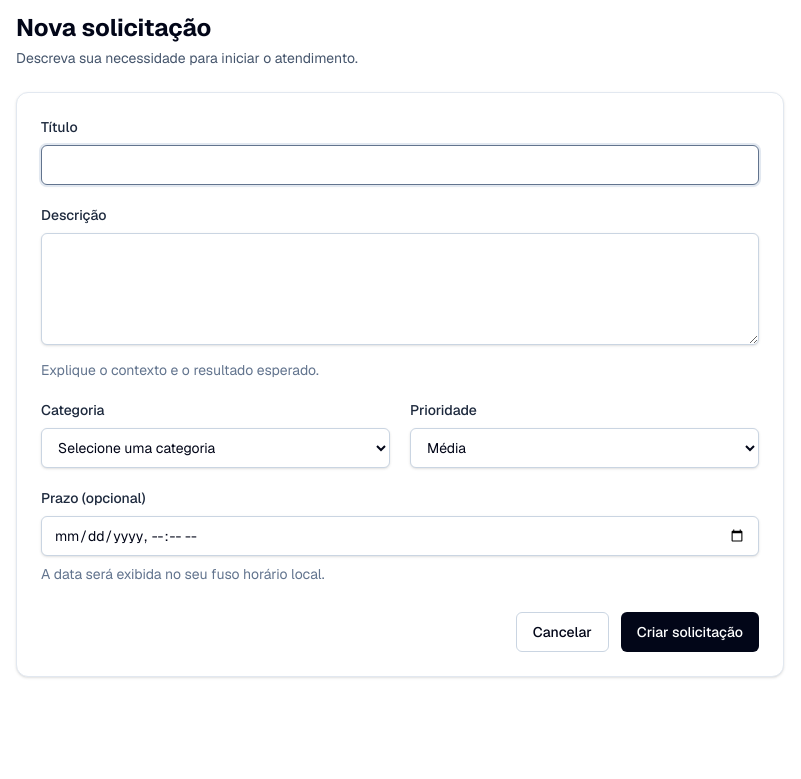
Test: nova solicitação › valida campos obrigatórios
Click the button "Criar solicitação" at (690, 632), box [621, 612, 759, 652]
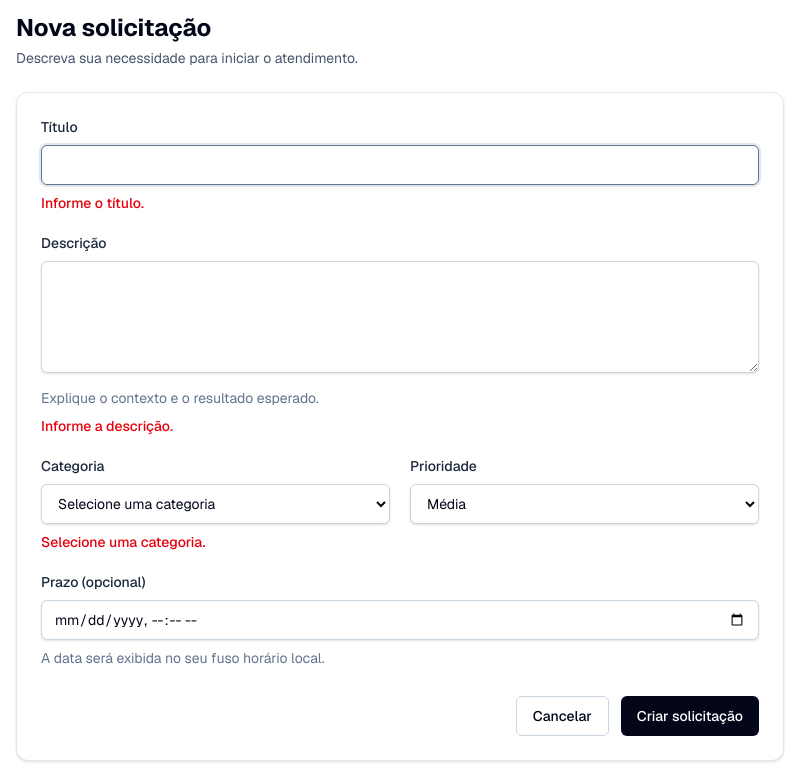
Expected: the text "Informe o título." is shown, [41, 194, 144, 212]
Expected: the text "Informe a descrição." is shown, [41, 417, 173, 435]
Expected: the text "Selecione uma categoria." is shown, [41, 533, 206, 551]
